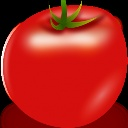tomato: (4, 5, 128, 128)
